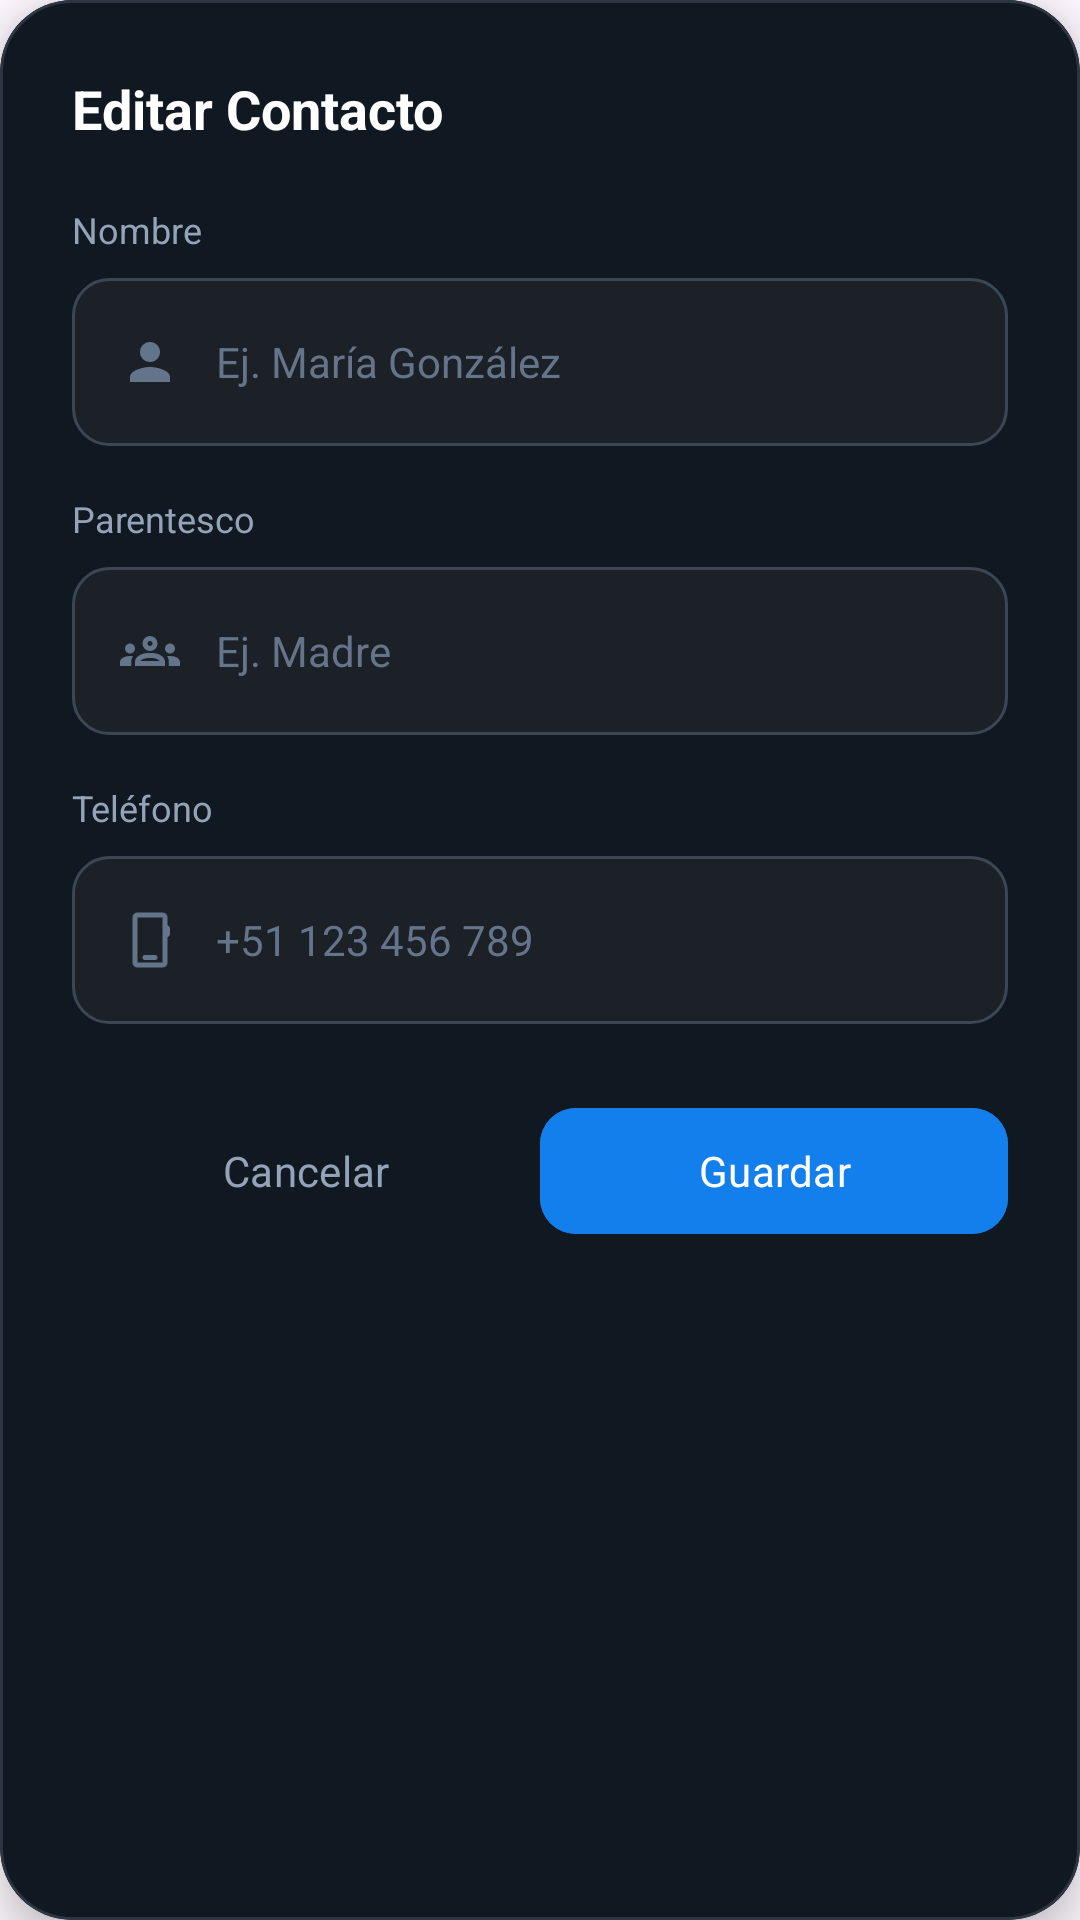

Screen size 1080px x 1920px. Icon name, then its box in pixels as (x1, y1, x2, y2):
groups: (120, 636, 180, 666)
person: (130, 342, 170, 382)
phone: (132, 912, 170, 968)
